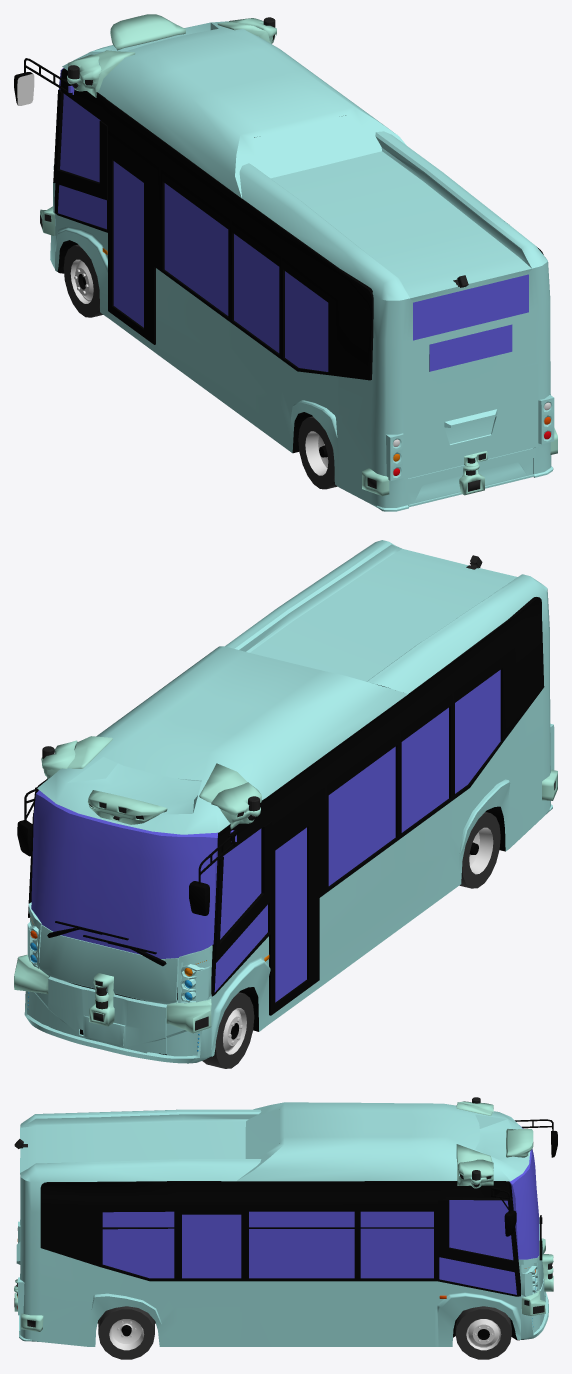
The picture shows the model from 3 angles, top to bottom: view 1: azimuth 30°, elevation 25°; view 2: azimuth 150°, elevation 25°; view 3: azimuth 270°, elevation 25°; orthographic projection. The views are drawn at different scales.
Parts seen in each view (by area): view 1: BYDJ6_low, BYDJ6Sensors_low, BYDJ6WheelRR_low, BYDJ6WheelFL_low; view 2: BYDJ6_low, BYDJ6Sensors_low, BYDJ6WheelFL_low, BYDJ6WheelRR_low; view 3: BYDJ6_low, BYDJ6Sensors_low, BYDJ6WheelRL_low, BYDJ6WheelFR_low.
Boxes of the visible parts, box(x1,y1,x2,y2) form: BYDJ6_low: box(14, 21, 554, 511); BYDJ6Sensors_low: box(40, 14, 557, 496); BYDJ6WheelRR_low: box(298, 416, 337, 489); BYDJ6WheelFL_low: box(63, 244, 102, 317); BYDJ6_low: box(17, 540, 554, 1063); BYDJ6Sensors_low: box(14, 555, 557, 1033); BYDJ6WheelFL_low: box(202, 992, 254, 1068); BYDJ6WheelRR_low: box(459, 812, 500, 888); BYDJ6_low: box(16, 1102, 557, 1346); BYDJ6Sensors_low: box(14, 1101, 553, 1331); BYDJ6WheelRL_low: box(98, 1306, 154, 1359); BYDJ6WheelFR_low: box(455, 1306, 511, 1359).
Bounding box in the file's own units: 2.46 × 3.02 × 7.26.
